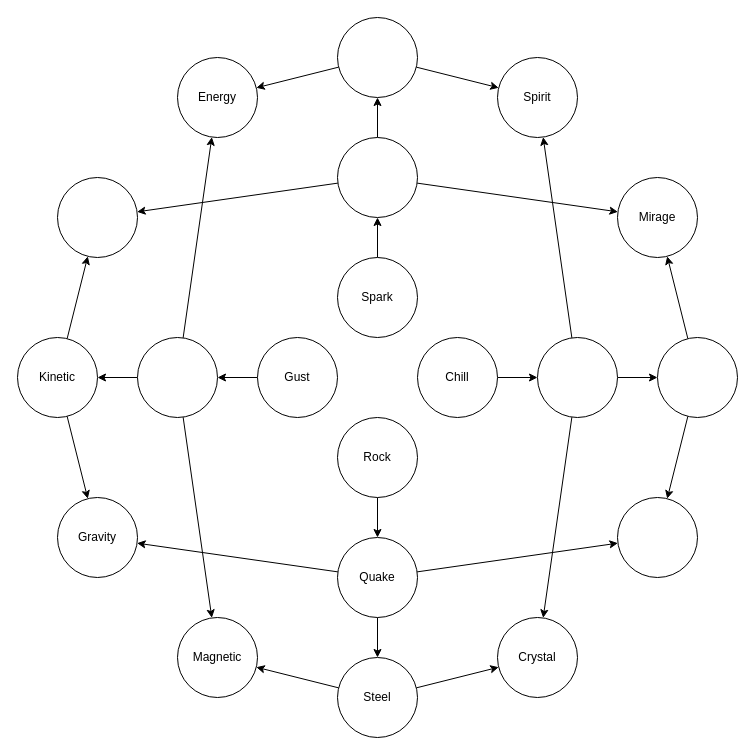
The diagram is 755 pixels wide and 755 high, and some of its shapes have lost their labels. The centre of each missing label's shape, as x and y in pixels:
"Detonation" goes at point 97,217.
"Flare" goes at point 377,57.
"Freeze" goes at point 577,377.
"Heat" goes at point 377,177.
"Pressure" goes at point 657,537.
"Thunder" goes at point 177,377.
"Tsunami" goes at point 697,377.
